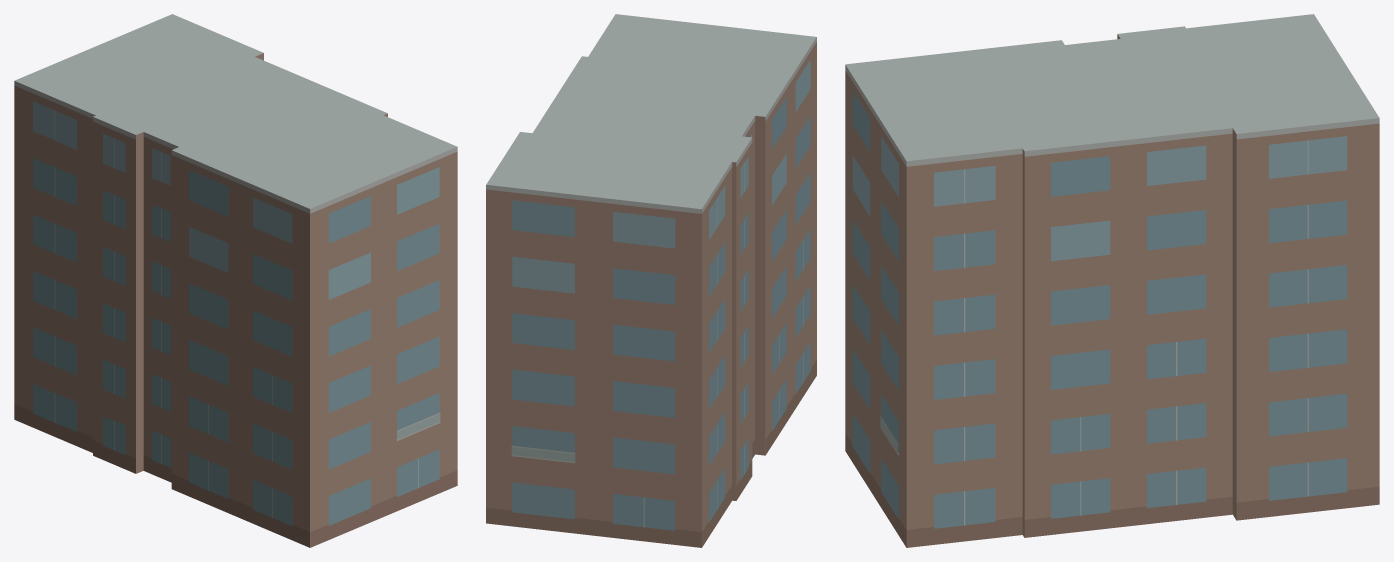
File: survey-upis-33034989.glb
3 views of the same model, side by side, from view 1: azimuth 30°, elevation 25°; view 2: azimuth 150°, elevation 25°; view 3: azimuth 270°, elevation 25° (orthographic). The views are drawn at different scales.
Parts seen in each view (by area): view 1: survey-upis-33034989.tmp; view 2: survey-upis-33034989.tmp; view 3: survey-upis-33034989.tmp.
Part boxes in pixels (bbox=[...]): survey-upis-33034989.tmp: bbox=[14, 14, 457, 547]; survey-upis-33034989.tmp: bbox=[486, 14, 816, 547]; survey-upis-33034989.tmp: bbox=[845, 14, 1379, 547].
Size of the model in its own units: 14.33 by 17.5 by 21.94.
